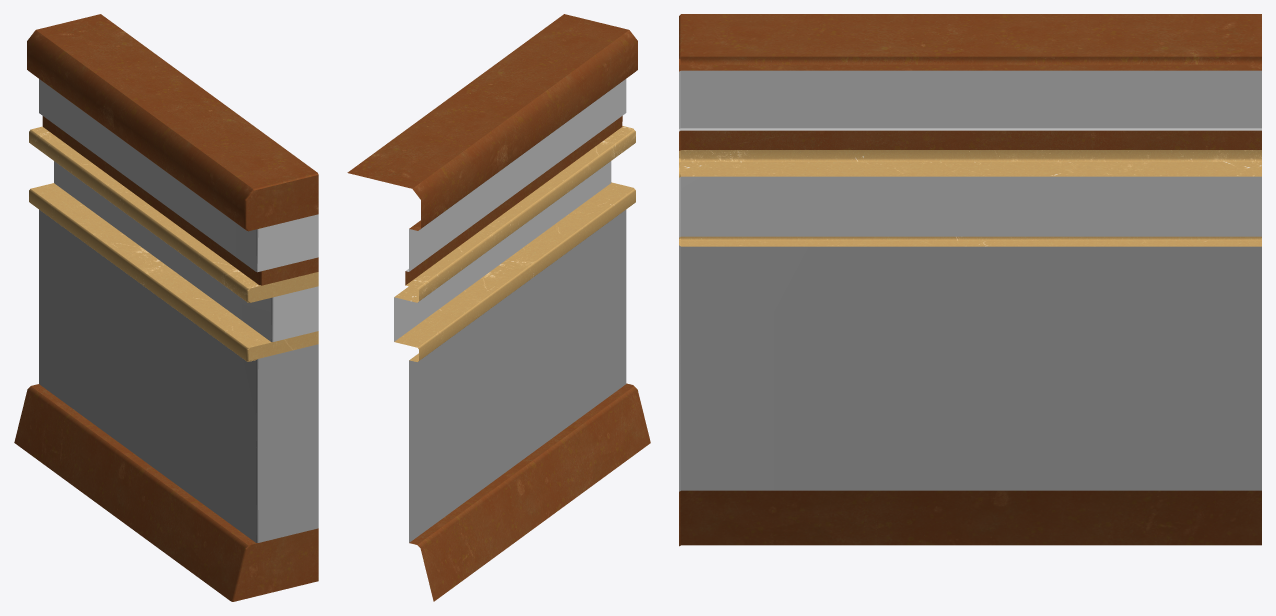
File: Wall_02.fbx
The picture shows the model from 3 angles, left to right: view 1: azimuth 30°, elevation 25°; view 2: azimuth 150°, elevation 25°; view 3: azimuth 270°, elevation 25°; orthographic projection. The views are drawn at different scales.
Visible parts, largest first — view 1: Wall_02; view 2: Wall_02; view 3: Wall_02.
Part boxes in pixels (x1,y1,x2,y2): Wall_02: (14, 14, 318, 601); Wall_02: (347, 14, 650, 601); Wall_02: (679, 14, 1261, 546).
Size of the model in its own units: 67.44 by 304 by 294.
